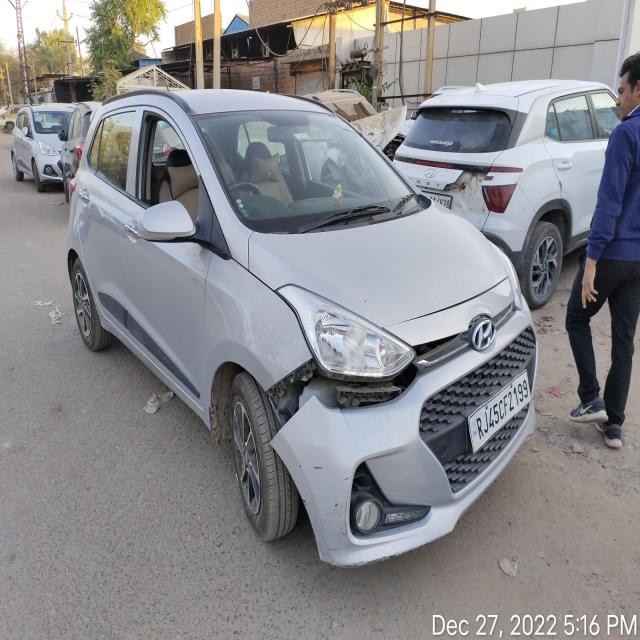damage: (263, 333, 458, 436)
